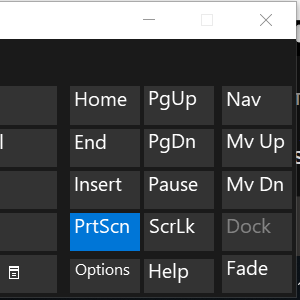close: (247, 6, 283, 32)
